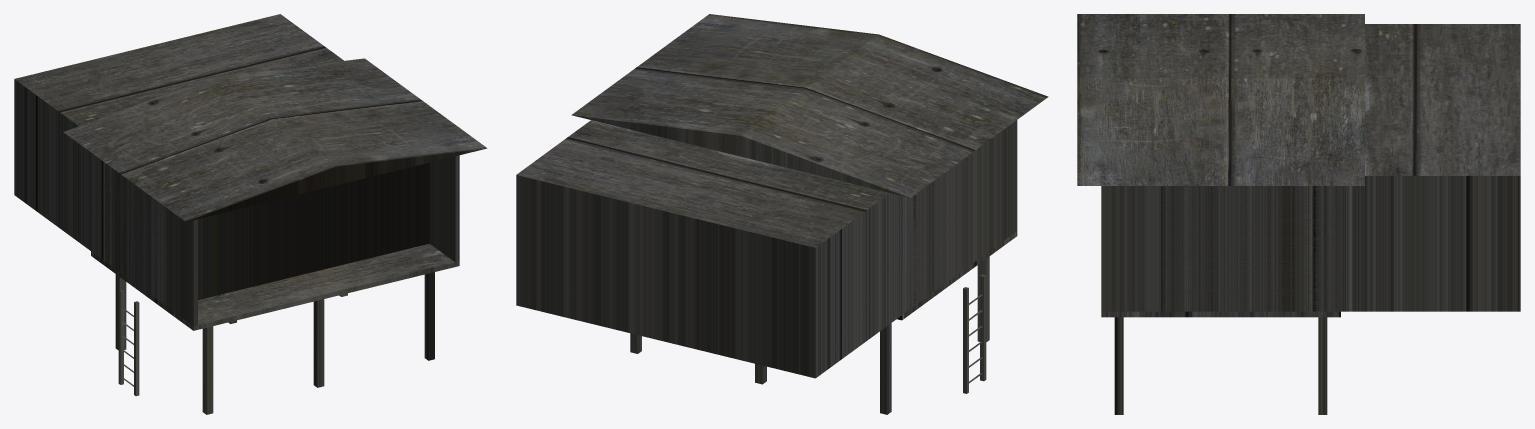
File: stilt_house.glb
3 views of the same model, side by side, from view 1: azimuth 30°, elevation 25°; view 2: azimuth 150°, elevation 25°; view 3: azimuth 270°, elevation 25° (orthographic). The views are drawn at different scales.
Parts seen in each view (by area): view 1: StiltHouse; view 2: StiltHouse; view 3: StiltHouse.
Boxes of the visible parts, x1,y1,x2,y2 form: StiltHouse: (14,14,487,414); StiltHouse: (516,14,1048,414); StiltHouse: (1077,14,1520,414).
Bounding box in the file's own units: 6.8 × 5 × 7.4.
Materials: 1 (1 with a texture image).
